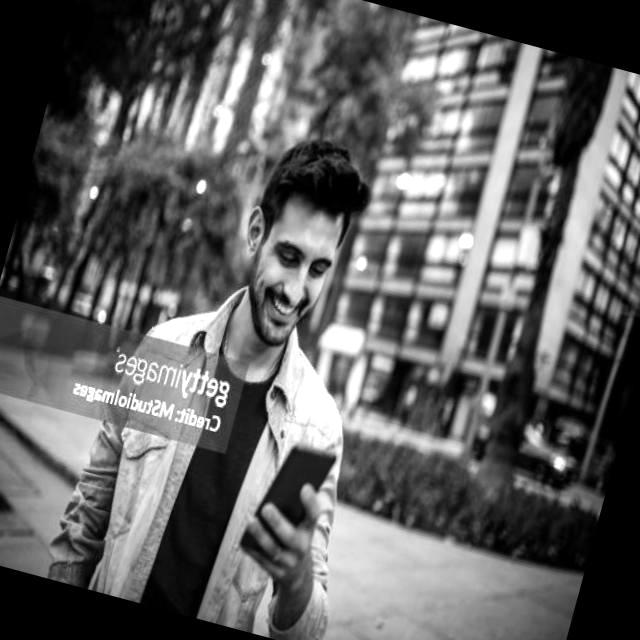phone: (238, 434, 338, 572)
